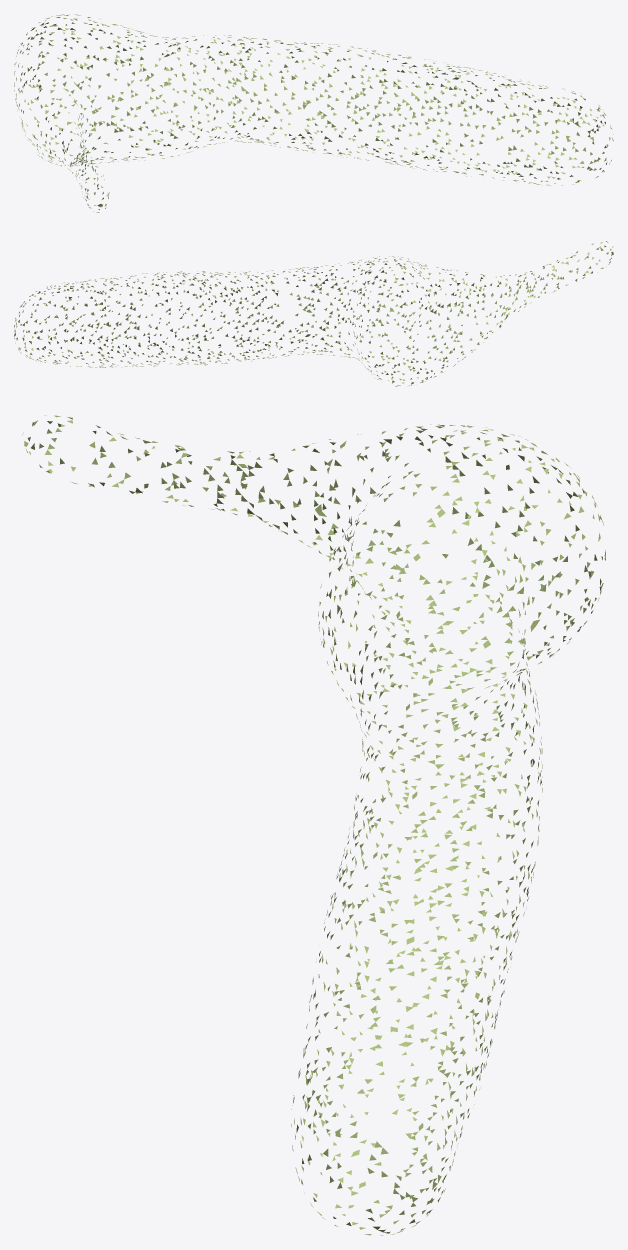
File: morph_011.glb
3 views of the same model, one above another, from view 1: azimuth 30°, elevation 25°; view 2: azimuth 150°, elevation 25°; view 3: azimuth 270°, elevation 25° (orthographic). The views are drawn at different scales.
Size of the model in its own units: 111 by 42.64 by 55.16.
